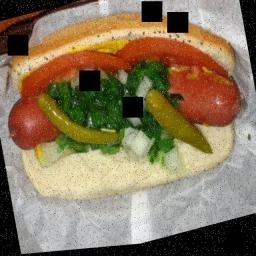hotdog: (163, 55, 253, 143), (6, 86, 79, 159)
